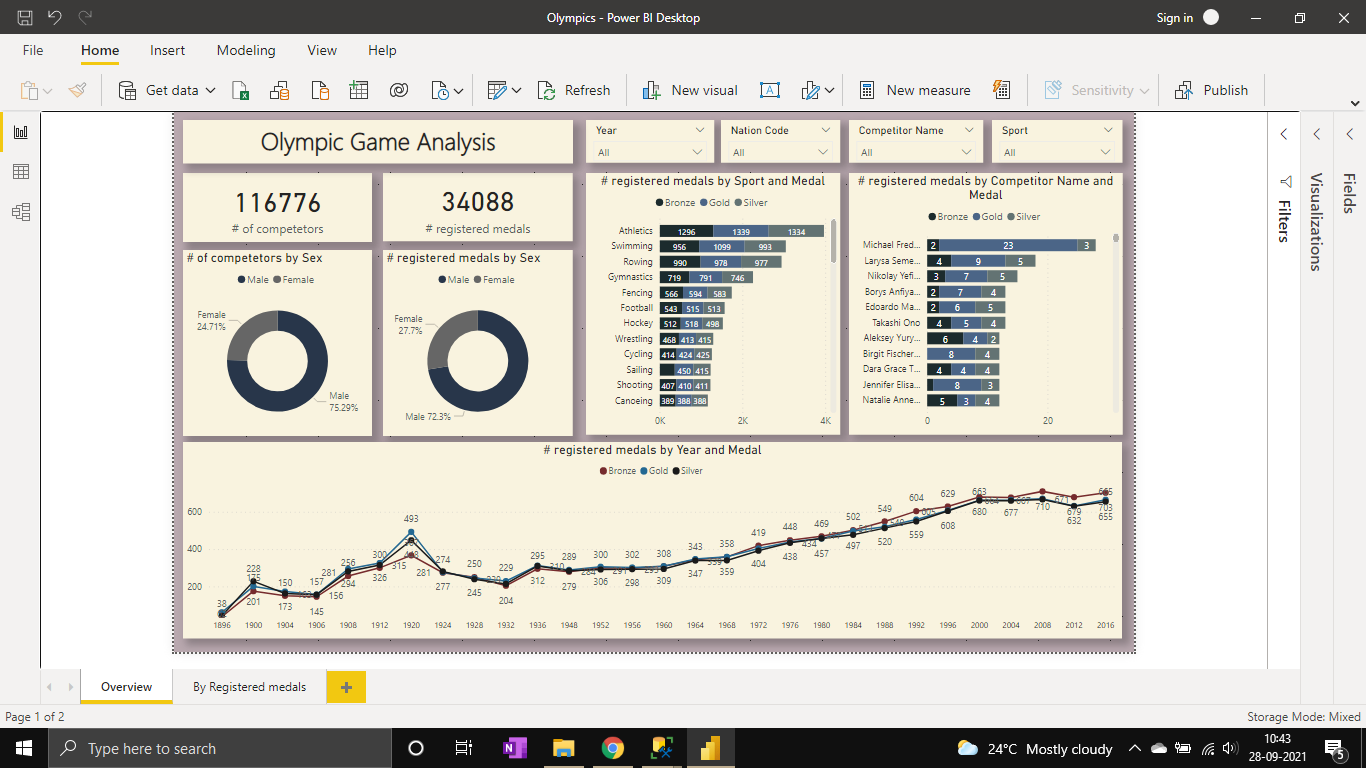

What the dashboard file says about the page in this screenshot:
{"tool":"powerbi","page":{"name":"Overview","canvas":[1280,720],"ordinal":0},"visuals":[{"type":"slicer","fields":{"Values":["Main Data.Year"]},"box":[549.6,11.1,171.1,57],"z":0},{"type":"slicer","fields":{"Values":["Main Data.Nation Code"]},"box":[729,11.1,158.6,57],"z":1000},{"type":"slicer","fields":{"Values":["Main Data.Competitor Name"]},"box":[900.2,11.1,179.5,57],"z":2000},{"type":"slicer","fields":{"Values":["Main Data.Sport"]},"box":[1090.8,11.1,173.9,57],"z":3000},{"type":"card","fields":{"Values":["Measures (2).# of competetors"]},"box":[12.5,80.7,251.8,91.8],"z":4000},{"type":"donutChart","fields":{"Category":["Main Data.Sex"],"Y":["Measures (2).# of competetors"]},"box":[12.5,183.7,251.8,247.7],"z":5000},{"type":"card","fields":{"Values":["Measures (2).# registered medals"]},"box":[278.7,81.3,253.3,90.7],"z":6000},{"type":"donutChart","fields":{"Category":["Main Data.Sex"],"Y":["Measures (2).# registered medals"]},"box":[278.7,184,253.3,248],"z":7000},{"type":"barChart","fields":{"Y":["Measures (2).# registered medals"],"Category":["Main Data.Sport"],"Series":["Main Data.Medal"]},"box":[549.3,81.3,338.7,349.3],"z":8000},{"type":"barChart","fields":{"Y":["Measures (2).# registered medals"],"Category":["Main Data.Competitor Name"],"Series":["Main Data.Medal"]},"box":[900.2,80.7,364.5,349.2],"z":9000},{"type":"lineChart","fields":{"Y":["Measures (2).# registered medals"],"Series":["Main Data.Medal"],"Category":["Main Data.Year"]},"box":[12.5,439.7,1252.2,261.6],"z":10000},{"type":"textbox","box":[12.5,11.1,520.3,58.4],"z":11000}]}

Visuals, with their boxes on the page's 1280x720 design canvas (x1, y1, x2, y2). These are canvas units, not pixel positions in the 1366x768 screenshot, which may show the page scaled, cropped or inside an application window:
slicer - Main Data.Year: <bbox>550, 11, 721, 68</bbox>
slicer - Main Data.Nation Code: <bbox>729, 11, 888, 68</bbox>
slicer - Main Data.Competitor Name: <bbox>900, 11, 1080, 68</bbox>
slicer - Main Data.Sport: <bbox>1091, 11, 1265, 68</bbox>
card - Measures (2).# of competetors: <bbox>12, 81, 264, 172</bbox>
donutChart - Main Data.Sex x Measures (2).# of competetors: <bbox>12, 184, 264, 431</bbox>
card - Measures (2).# registered medals: <bbox>279, 81, 532, 172</bbox>
donutChart - Main Data.Sex x Measures (2).# registered medals: <bbox>279, 184, 532, 432</bbox>
barChart - Measures (2).# registered medals x Main Data.Sport: <bbox>549, 81, 888, 431</bbox>
barChart - Measures (2).# registered medals x Main Data.Competitor Name: <bbox>900, 81, 1265, 430</bbox>
lineChart - Measures (2).# registered medals x Main Data.Medal: <bbox>12, 440, 1265, 701</bbox>
textbox: <bbox>12, 11, 533, 70</bbox>
